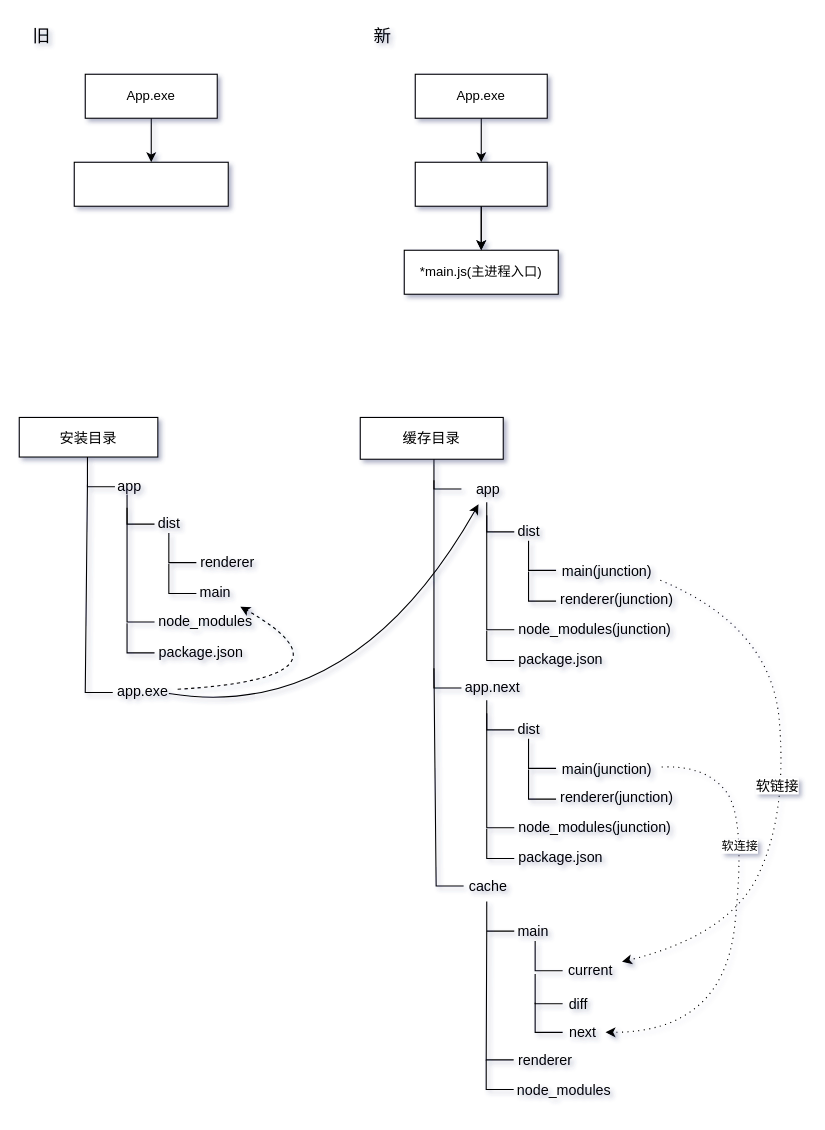
The diagram is 825 pixels wide and 1130 high, and some of its shapes have lost their labels. Here are the shapes that lost their labels. From the top down, the centre of each, then its label:
At [150,183]: "main.js(主进程入口)".
At [480,183]: "updater.js(代理层)".
